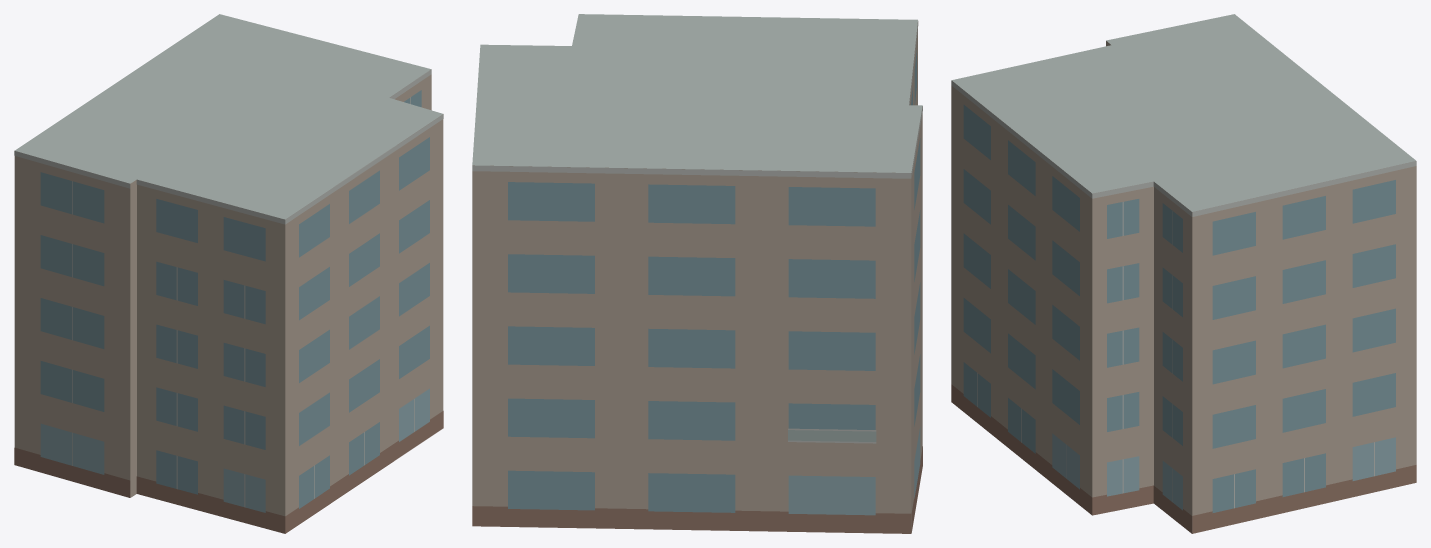
File: survey-upis-32485770.glb
The picture shows the model from 3 angles, left to right: view 1: azimuth 30°, elevation 25°; view 2: azimuth 150°, elevation 25°; view 3: azimuth 270°, elevation 25°; orthographic projection. The views are drawn at different scales.
Visible parts, largest first — view 1: survey-upis-32485770.tmp; view 2: survey-upis-32485770.tmp; view 3: survey-upis-32485770.tmp.
Boxes of the visible parts, bbox=[...] form: survey-upis-32485770.tmp: bbox=[14, 14, 443, 533]; survey-upis-32485770.tmp: bbox=[472, 14, 922, 533]; survey-upis-32485770.tmp: bbox=[951, 14, 1416, 533].
Bounding box in the file's own units: 20.2 × 15.3 × 20.04.
